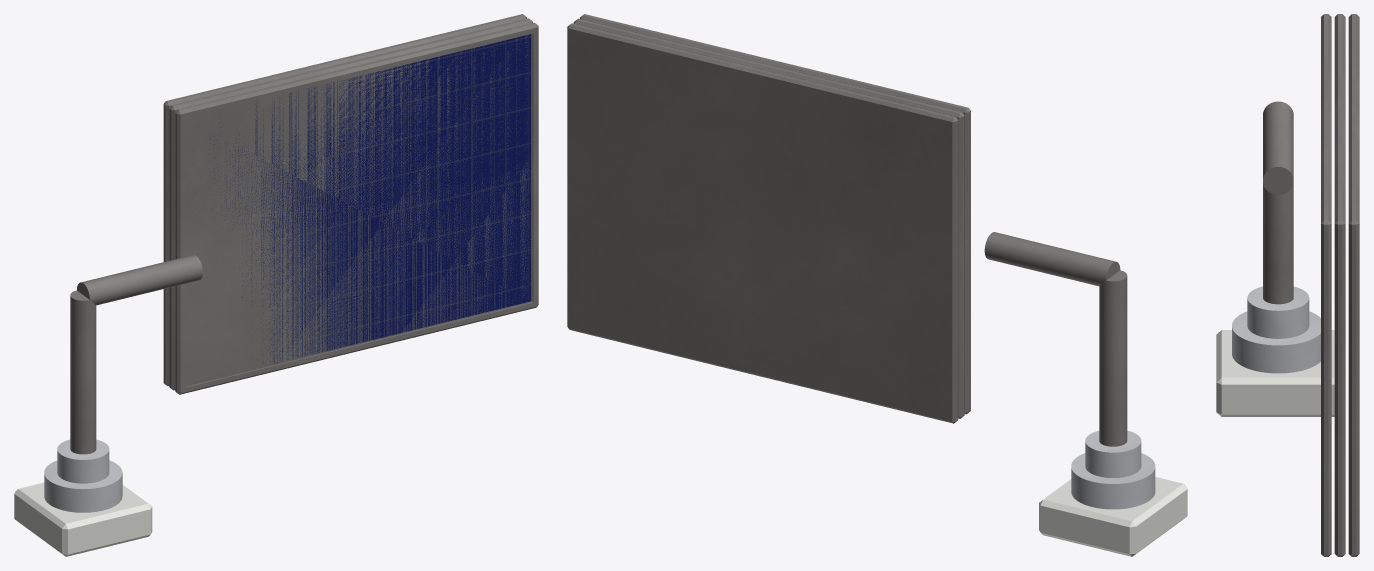
The model's file is ax_power_02_rigid_wing_m.glb.
3 views of the same model, side by side, from view 1: azimuth 30°, elevation 25°; view 2: azimuth 150°, elevation 25°; view 3: azimuth 270°, elevation 25° (orthographic). The views are drawn at different scales.
Parts seen in each view (by area): view 1: panel_1, panel_1_cells, yoke, mount_block, gimbal, panel_2, panel_3; view 2: panel_3, yoke, mount_block, gimbal, panel_1, panel_2; view 3: panel_2, panel_3, yoke, gimbal, panel_1, mount_block.
Part boxes in pixels (x1,y1,x2,y2): panel_1: (175,22,538,394); panel_1_cells: (200,34,531,364); yoke: (70,255,202,454); mount_block: (14,482,152,556); gimbal: (44,439,122,512); panel_2: (169,18,532,390); panel_3: (163,14,526,385); panel_3: (567,23,958,423); yoke: (984,232,1127,446); mount_block: (1039,477,1187,556); gimbal: (1071,430,1155,509); panel_1: (580,14,970,414); panel_2: (573,18,964,418); panel_2: (1334,14,1345,556); panel_3: (1348,14,1359,556); yoke: (1263,101,1293,304); gimbal: (1232,286,1320,373); panel_1: (1321,14,1331,556); mount_block: (1216,330,1334,416).
Size of the model in its own units: 2.3 by 1.59 by 0.4625.
Materials: 4 (3 with a texture image).
